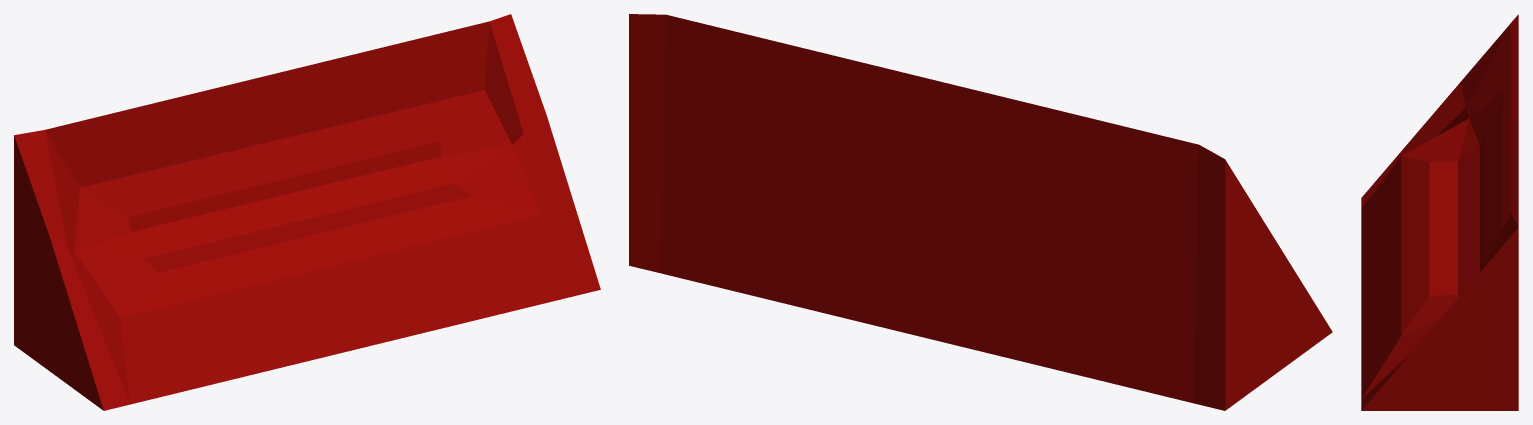
File: Seat.fbx
3 views of the same model, side by side, from view 1: azimuth 30°, elevation 25°; view 2: azimuth 150°, elevation 25°; view 3: azimuth 270°, elevation 25° (orthographic). The views are drawn at different scales.
Visible parts, largest first — view 1: Seat; view 2: Seat; view 3: Seat.
Boxes of the visible parts, bbox=[...] form: Seat: bbox=[14, 14, 600, 410]; Seat: bbox=[629, 14, 1332, 410]; Seat: bbox=[1361, 14, 1518, 410].
Size of the model in its own units: 805 by 327 by 251.
